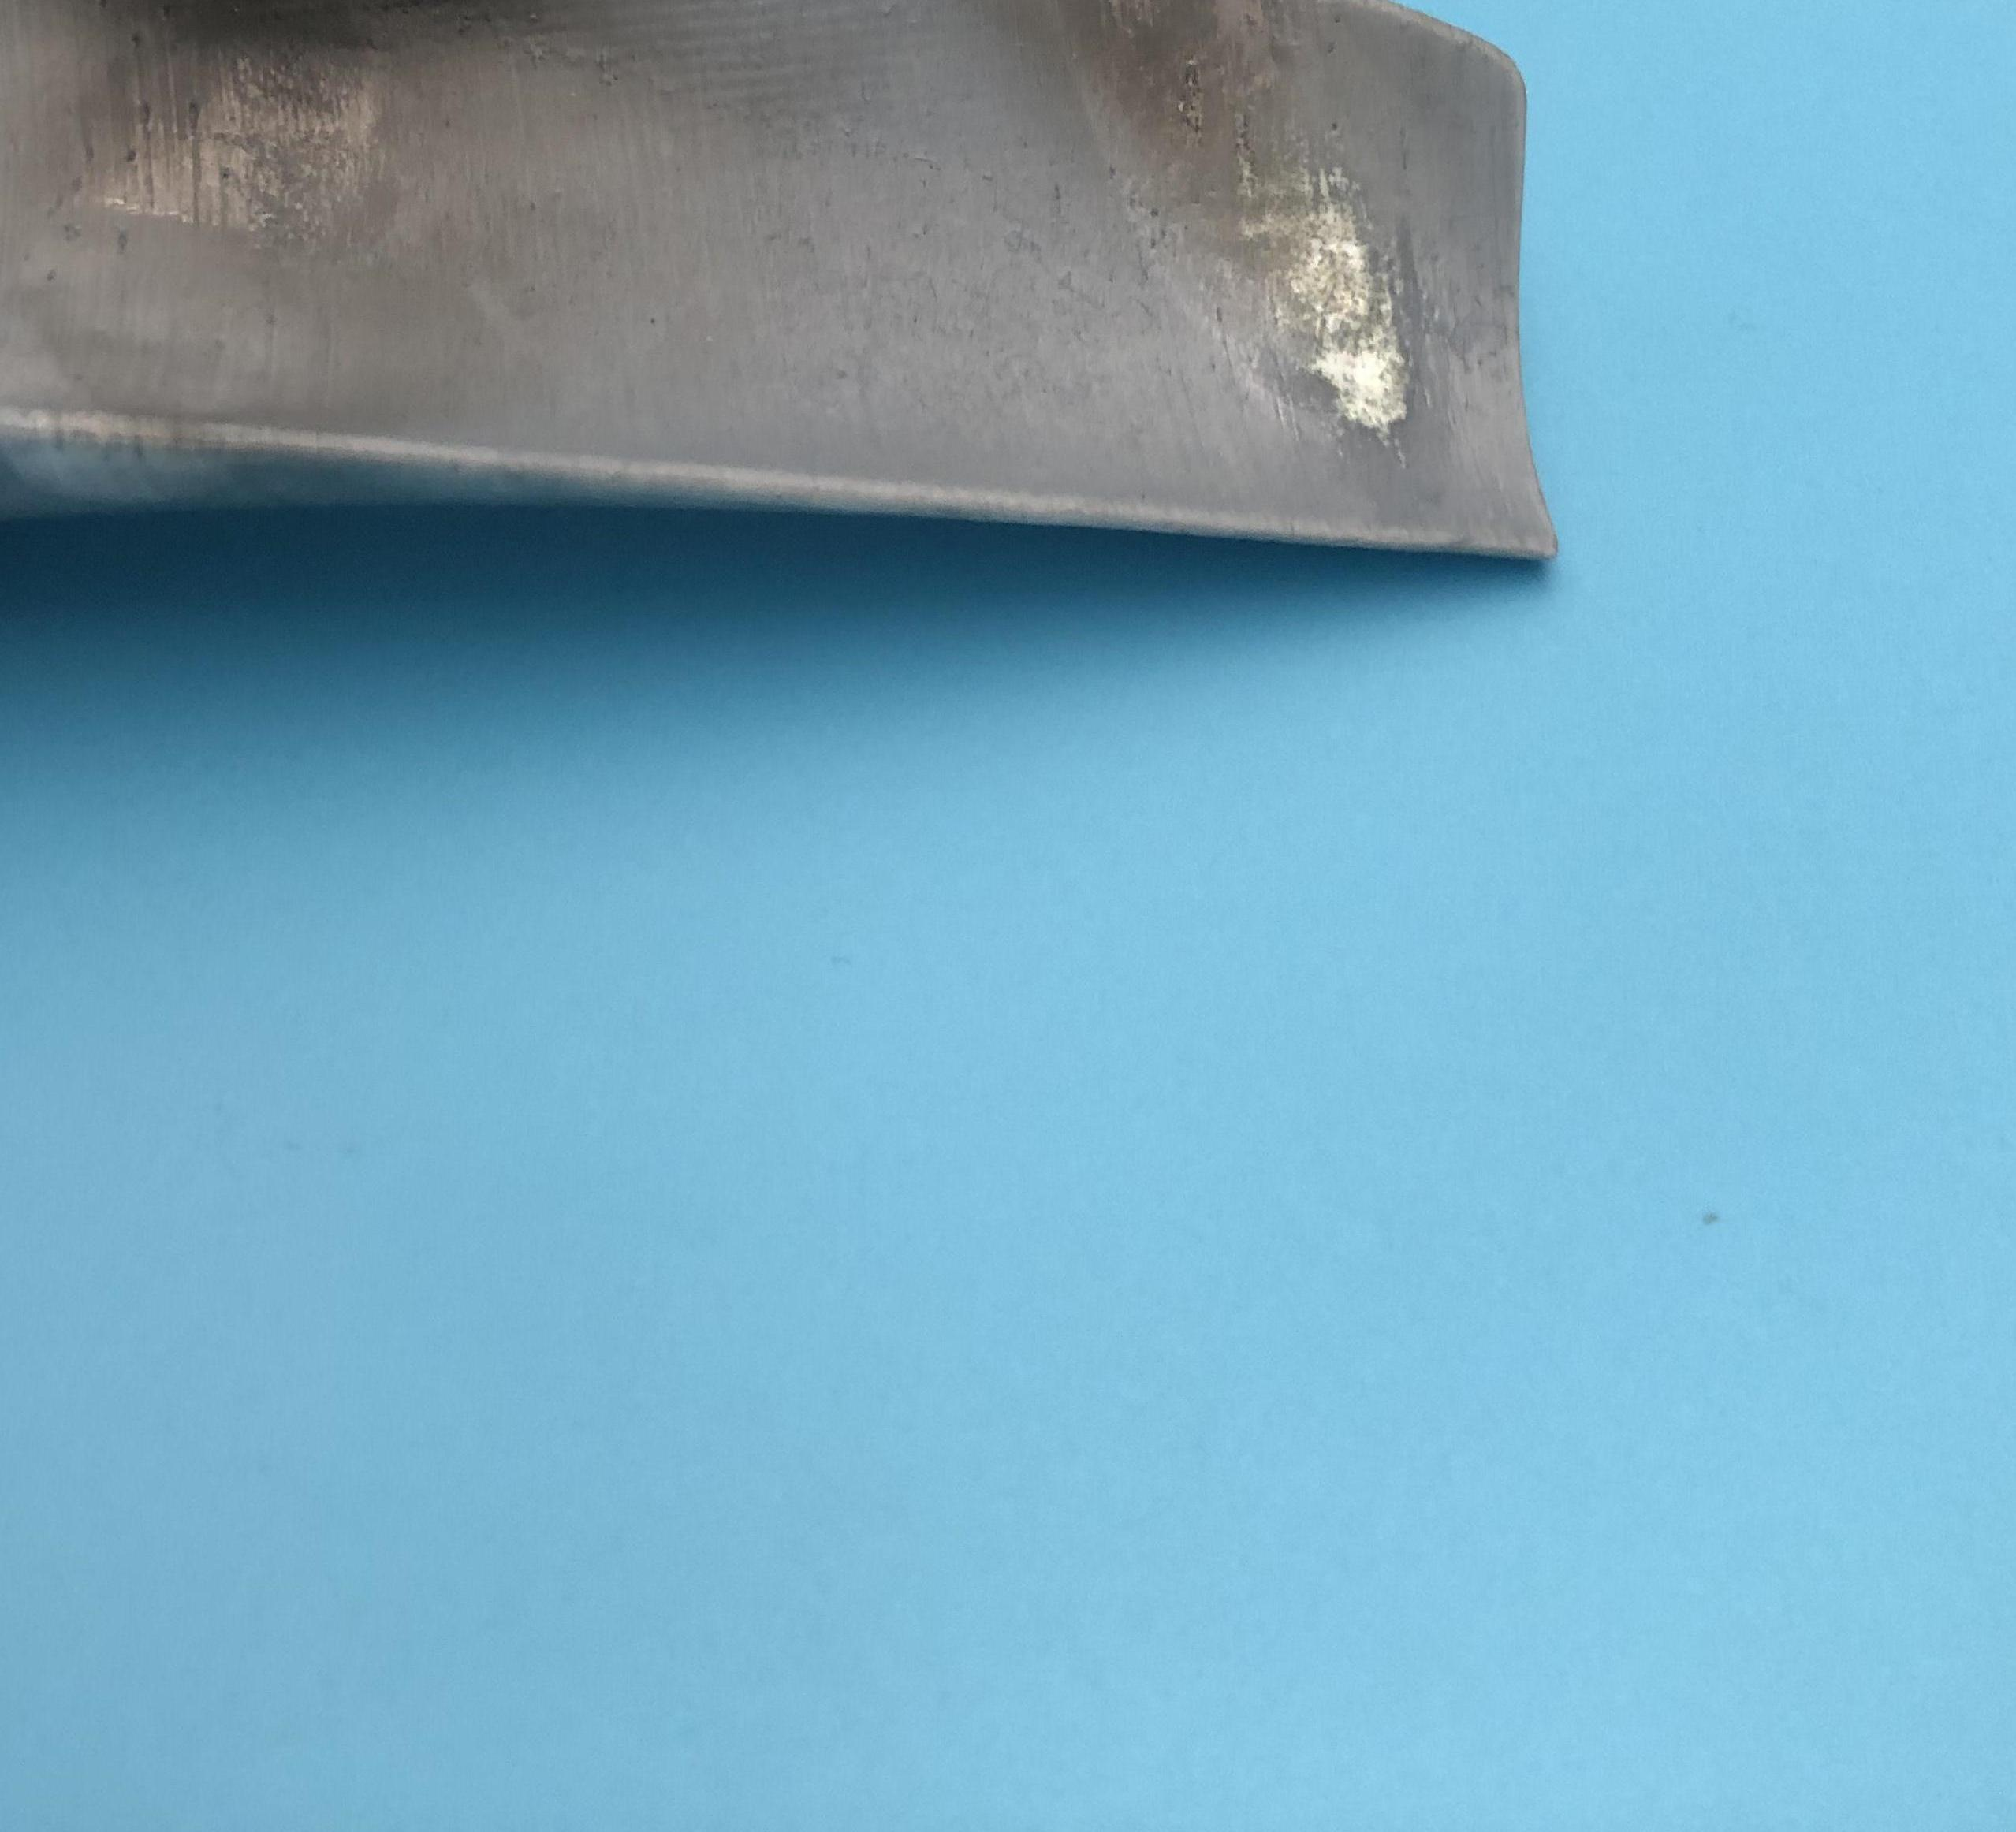ablation: (1122, 5, 1359, 263), (114, 12, 516, 137)
